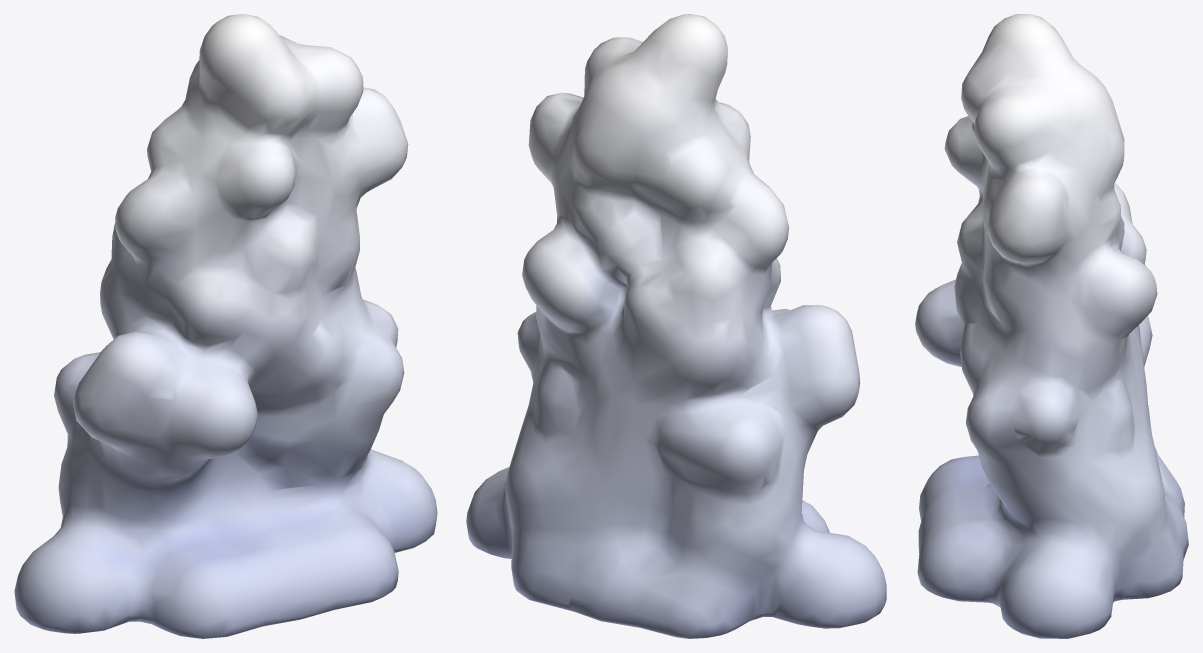
The model's file is NubeTorre.fbx.
3 views of the same model, side by side, from view 1: azimuth 30°, elevation 25°; view 2: azimuth 150°, elevation 25°; view 3: azimuth 270°, elevation 25° (orthographic). The views are drawn at different scales.
Visible parts, largest first — view 1: NubeTorre; view 2: NubeTorre; view 3: NubeTorre.
Boxes of the visible parts, bbox=[...] form: NubeTorre: bbox=[14, 14, 437, 638]; NubeTorre: bbox=[466, 14, 886, 638]; NubeTorre: bbox=[915, 14, 1188, 638].
Size of the model in its own units: 230 by 305 by 140.
Materials: 1 (1 with a texture image).
